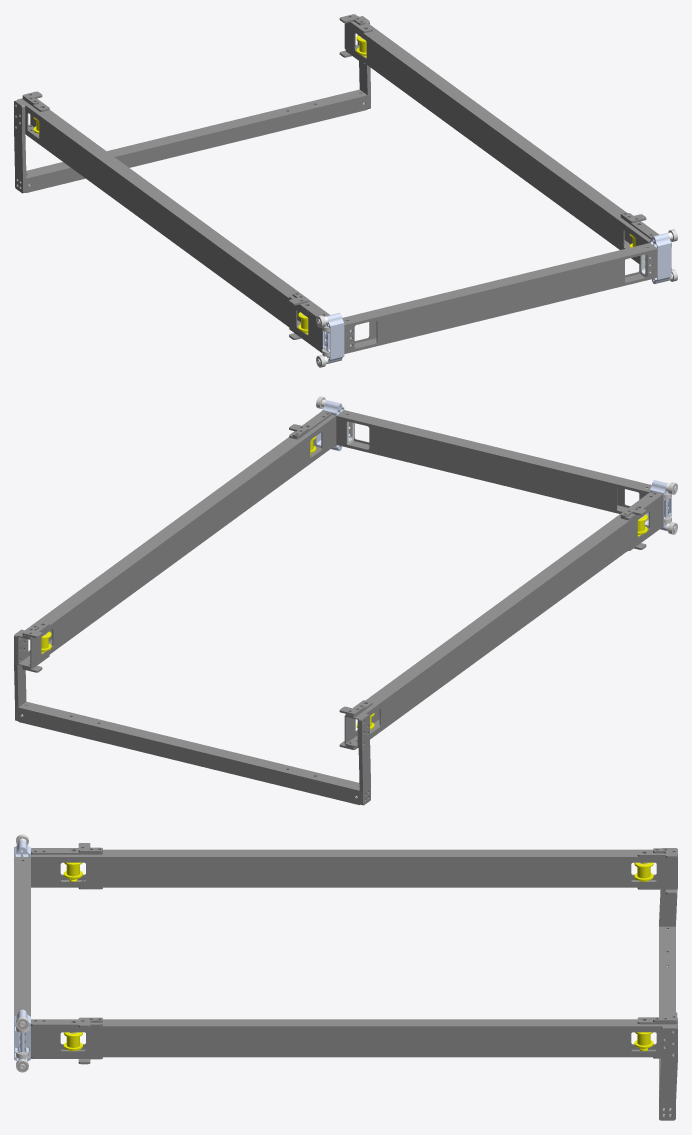
The picture shows the model from 3 angles, top to bottom: view 1: azimuth 30°, elevation 25°; view 2: azimuth 150°, elevation 25°; view 3: azimuth 270°, elevation 25°; orthographic projection. The views are drawn at different scales.
Visible parts, largest first — view 1: NAUO4, NAUO5, NAUO3, NAUO18, NAUO42 (×2), NAUO22; view 2: NAUO5, NAUO4, NAUO3, NAUO18, NAUO22, NAUO21; view 3: NAUO4, NAUO5, NAUO3, NAUO21, NAUO18, NAUO22, NAUO42, NAUO9.
Part boxes in pixels (x1,y1,x2,y2): NAUO4: (17, 98, 329, 351); NAUO5: (344, 16, 650, 263); NAUO3: (342, 243, 657, 353); NAUO18: (26, 89, 367, 192); NAUO42 (×2): (322, 233, 671, 363); NAUO22: (14, 100, 26, 193); NAUO5: (17, 414, 336, 667); NAUO4: (344, 492, 663, 747); NAUO3: (336, 410, 651, 513); NAUO18: (18, 701, 359, 804); NAUO22: (358, 714, 370, 805); NAUO21: (14, 629, 26, 720); NAUO4: (31, 849, 677, 887); NAUO5: (31, 1019, 677, 1057); NAUO3: (14, 857, 30, 1016); NAUO21: (659, 1026, 677, 1120); NAUO18: (659, 926, 675, 1097); NAUO22: (659, 848, 677, 928); NAUO42: (14, 1009, 30, 1061); NAUO9: (31, 1019, 102, 1026).
Size of the model in its own units: 0.6556 by 0.1715 by 0.9938.
